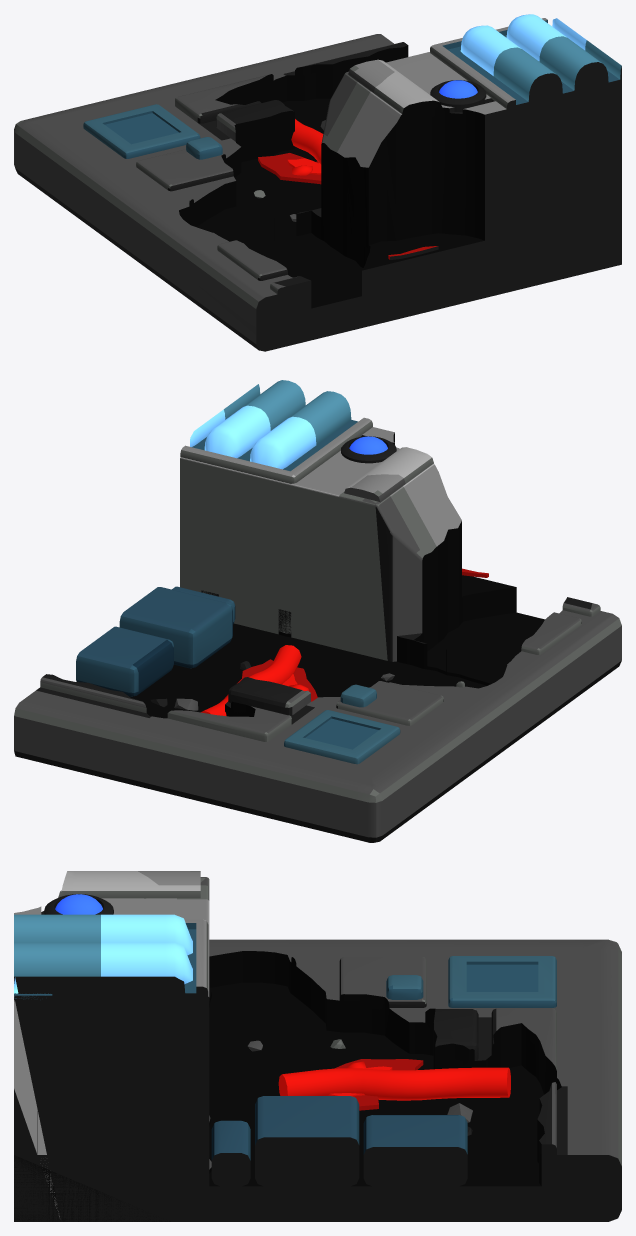
Rendered from ice_bunker_tl_wreck.glb.
The picture shows the model from 3 angles, top to bottom: view 1: azimuth 30°, elevation 25°; view 2: azimuth 150°, elevation 25°; view 3: azimuth 270°, elevation 25°; orthographic projection. The views are drawn at different scales.
Parts seen in each view (by area): view 1: ice_bunker_tl_wreck; view 2: ice_bunker_tl_wreck; view 3: ice_bunker_tl_wreck.
Part boxes in pixels (left/top/right/bottom): ice_bunker_tl_wreck: left=14, top=14, right=621, bottom=351; ice_bunker_tl_wreck: left=14, top=380, right=621, bottom=842; ice_bunker_tl_wreck: left=14, top=871, right=621, bottom=1221.
Bounding box in the file's own units: 24 × 13.12 × 28.
